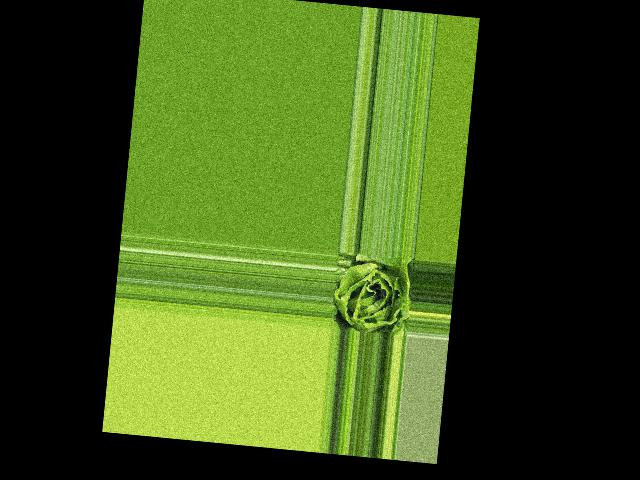lettuce: (331, 251, 414, 335)
